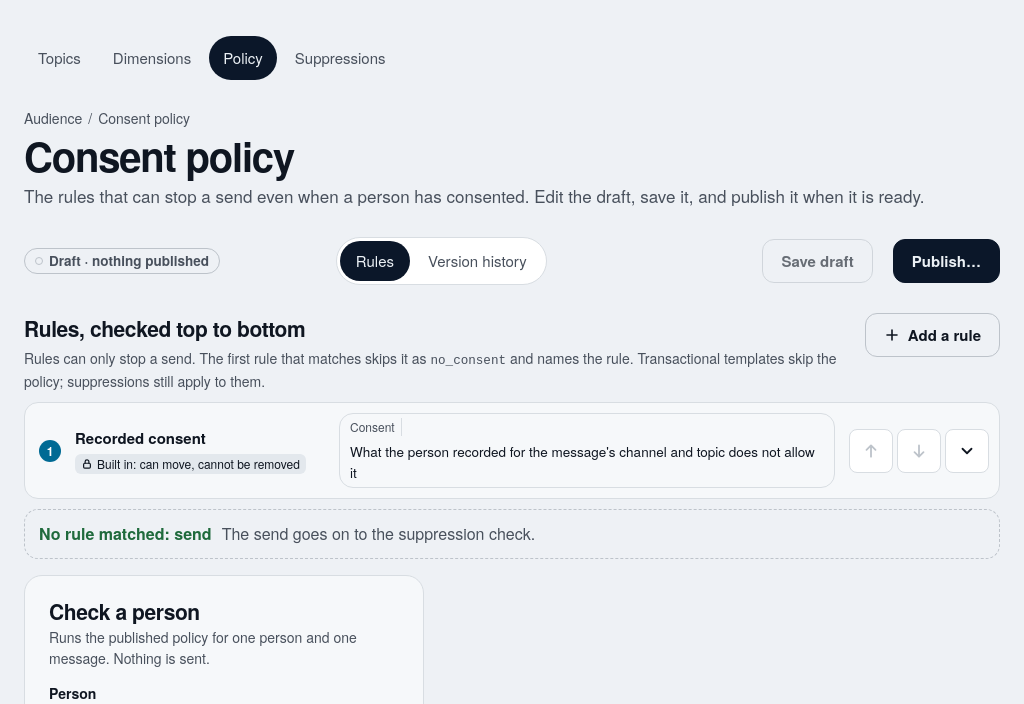
consent policy builder › shows the problems of a refused draft on the rule that has them
This screenshot has width=1024, height=704.
Click the button "Add a rule". click: coordinates (932, 335)
box: top-left (865, 313), bottom-right (1000, 357)
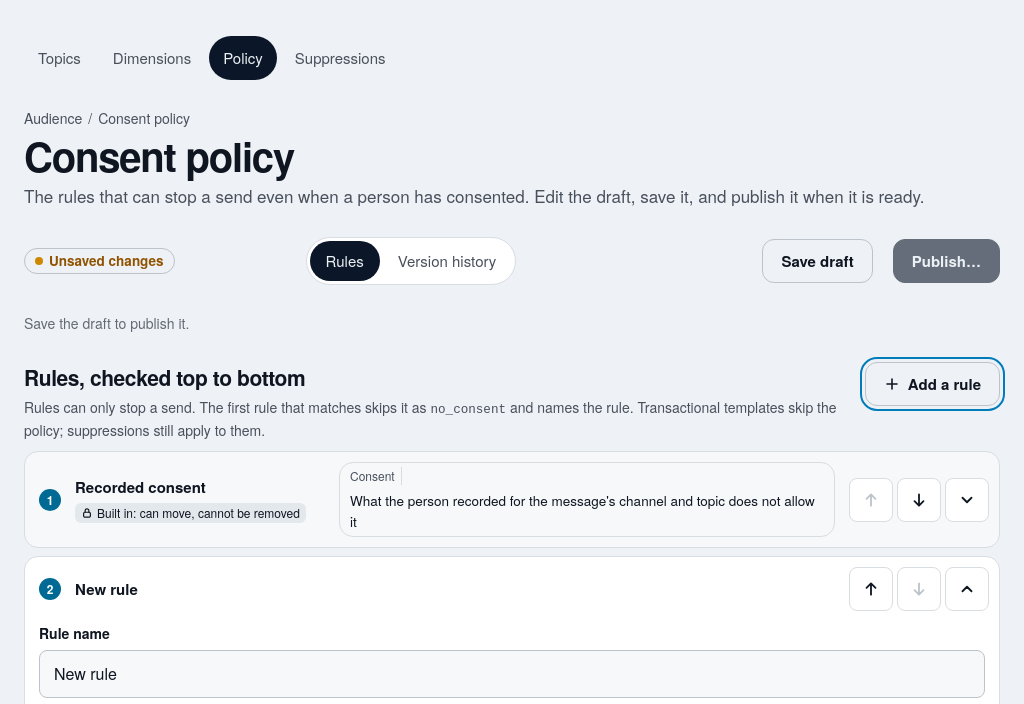
Replace the text in the field labelled "Rule name" with "Ghost field". click: coordinates (512, 674)
box: top-left (39, 650), bottom-right (985, 698)
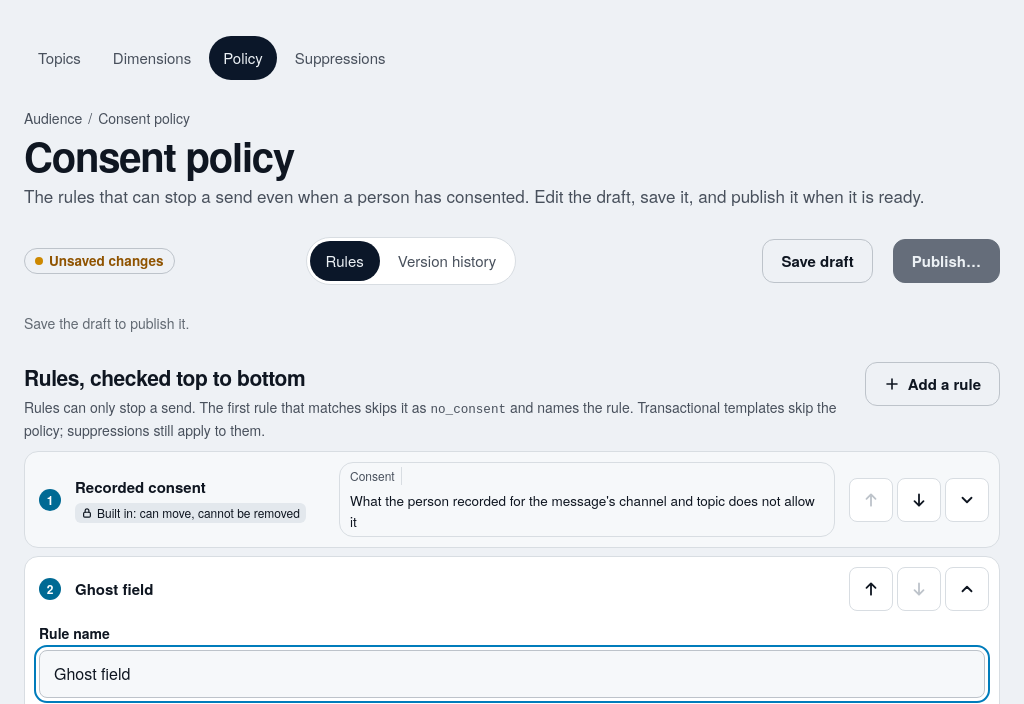
Click the button "Save draft". click: coordinates (818, 261)
box: top-left (762, 239), bottom-right (873, 283)
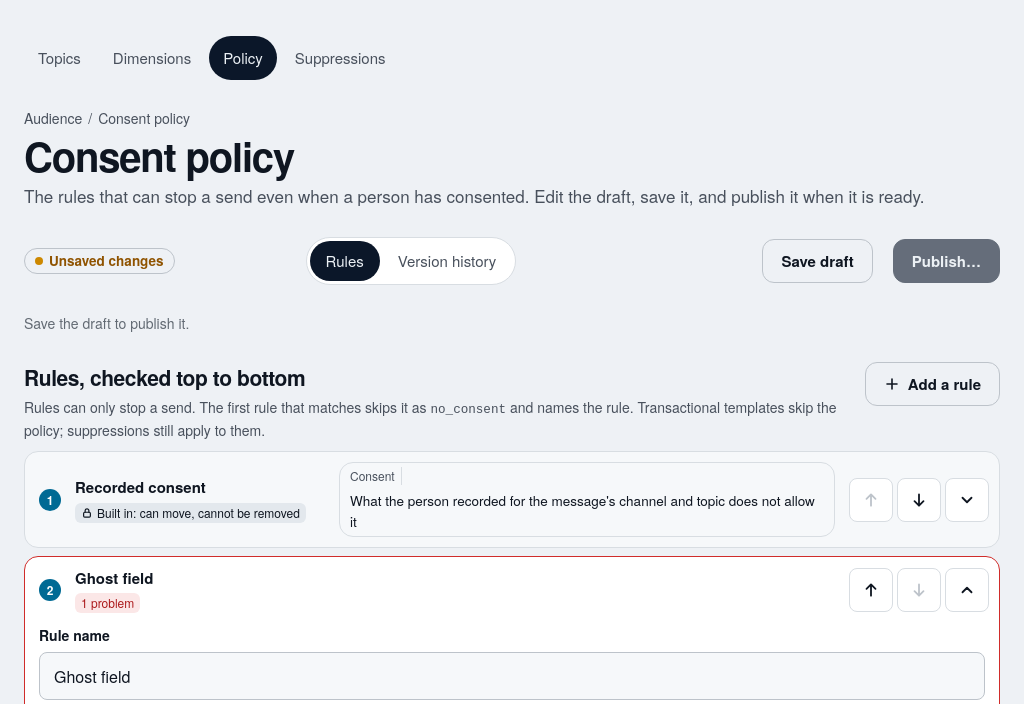
Now the text "1 problem" is shown, box top-left (75, 593), bottom-right (140, 613)
